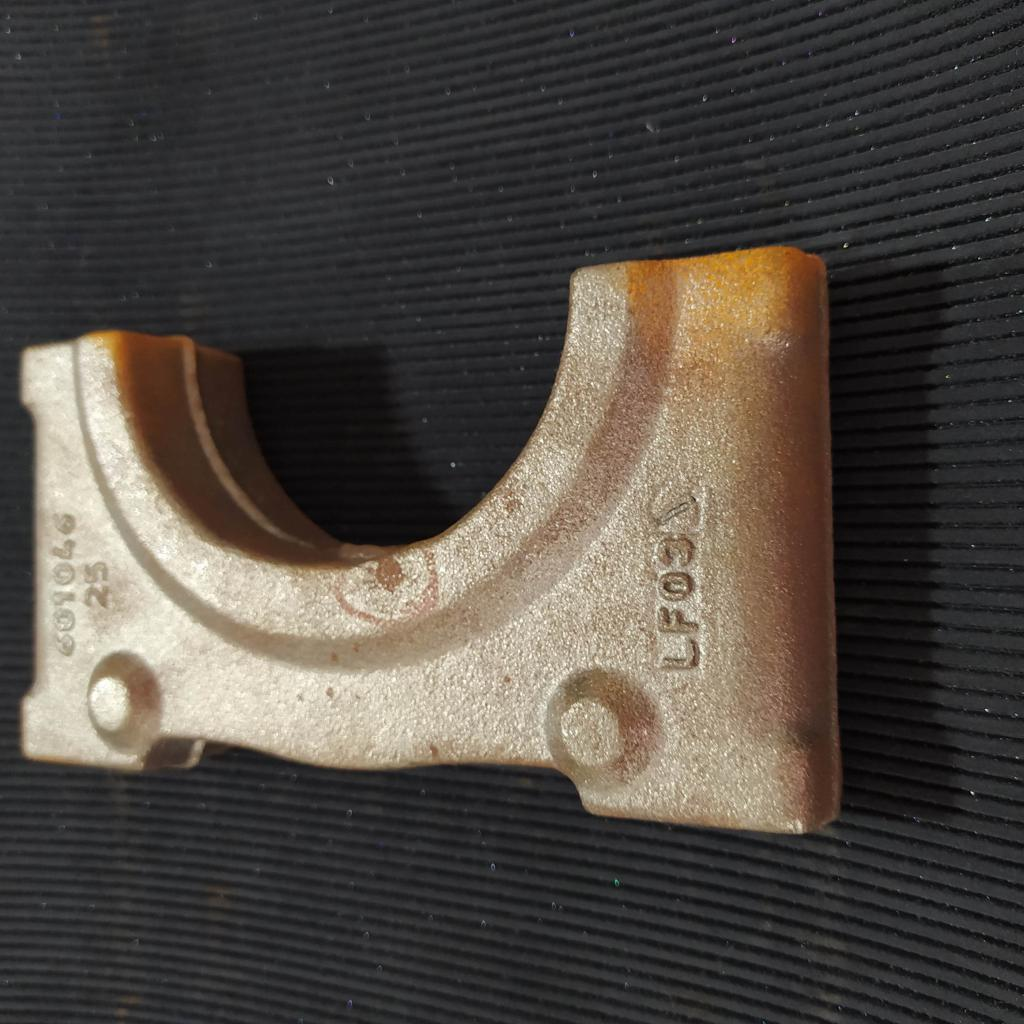mancha (ferrugem): (374, 554, 408, 597)
